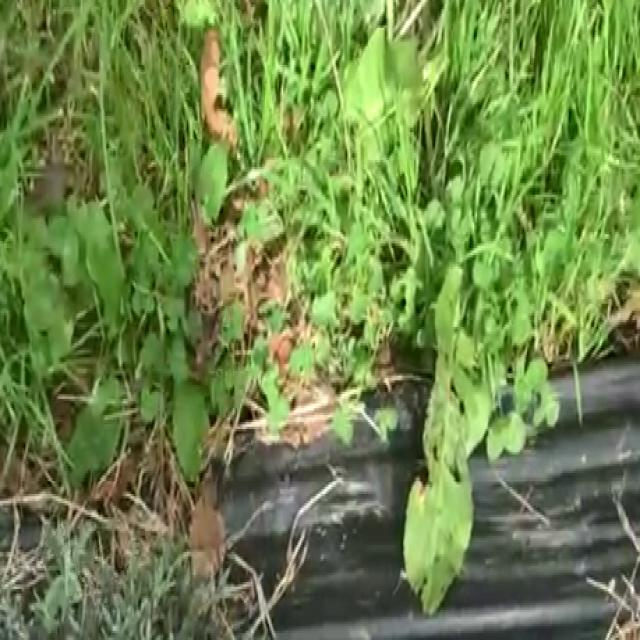organic waste: (32, 35, 276, 452), (394, 255, 540, 589), (328, 12, 460, 213)
